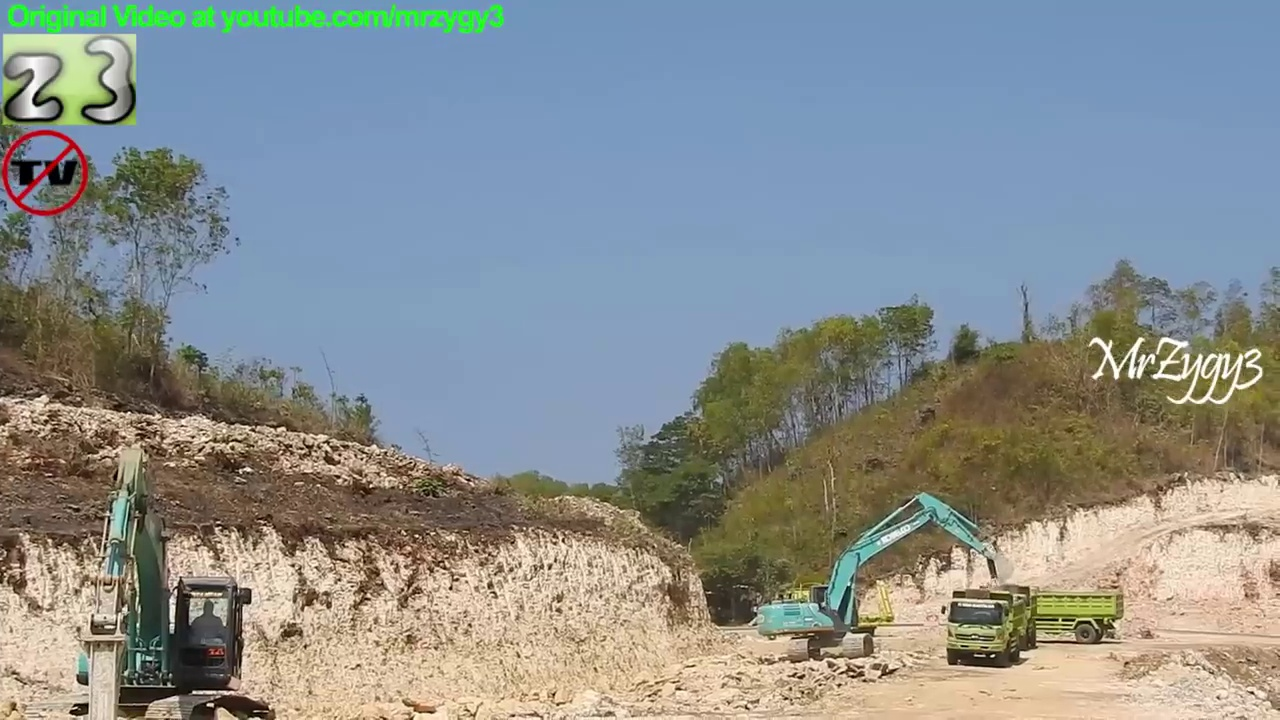excavator: (22, 438, 281, 720), (755, 489, 1015, 662)
truck: (967, 582, 1129, 647), (940, 586, 1030, 667), (957, 579, 1041, 658)
